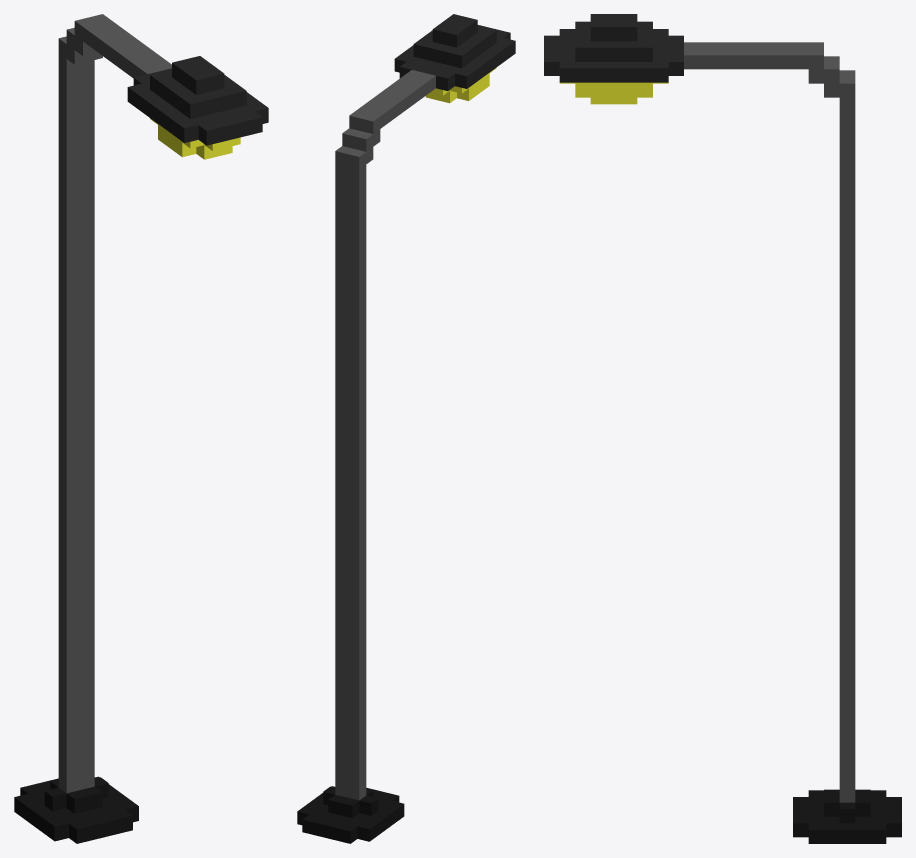
File: Trainvasion Moterman-5-Light Post.obj
3 renders of one model, left to right at view 1: azimuth 30°, elevation 25°; view 2: azimuth 150°, elevation 25°; view 3: azimuth 270°, elevation 25°, orthographic. The views are drawn at different scales.
Parts seen in each view (by area): view 1: Light Post; view 2: Light Post; view 3: Light Post.
Boxes of the visible parts, bbox=[...] form: Light Post: bbox=[14, 14, 268, 843]; Light Post: bbox=[297, 14, 515, 843]; Light Post: bbox=[544, 14, 901, 843].
Size of the model in its own units: 0.6 by 5.7 by 2.3.
Materials: 1 (1 with a texture image).
